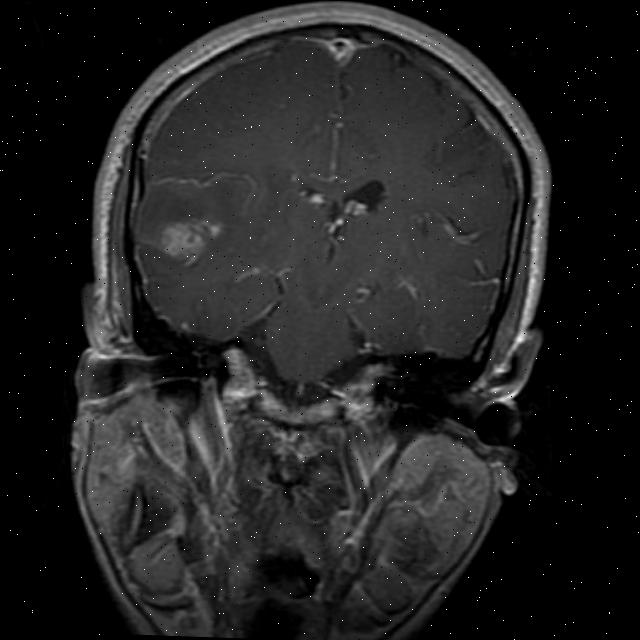Glioma: (133, 190, 225, 268)
Pituitary: (250, 389, 336, 428)
